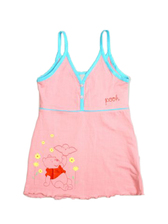clothoes: (20, 27, 150, 200)
